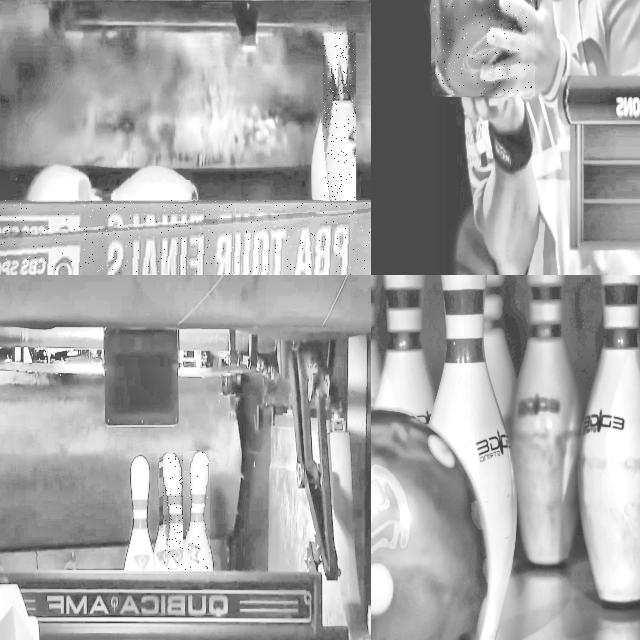bowling-ball: (371, 410, 490, 640), (0, 570, 349, 640), (434, 0, 519, 95)
bowling-pins: (430, 275, 516, 640), (511, 275, 582, 565), (579, 275, 640, 610), (374, 275, 435, 422), (323, 30, 356, 201), (484, 275, 514, 431), (125, 456, 156, 571), (185, 451, 210, 570), (162, 454, 182, 569)
sweep board: (0, 210, 371, 275)
